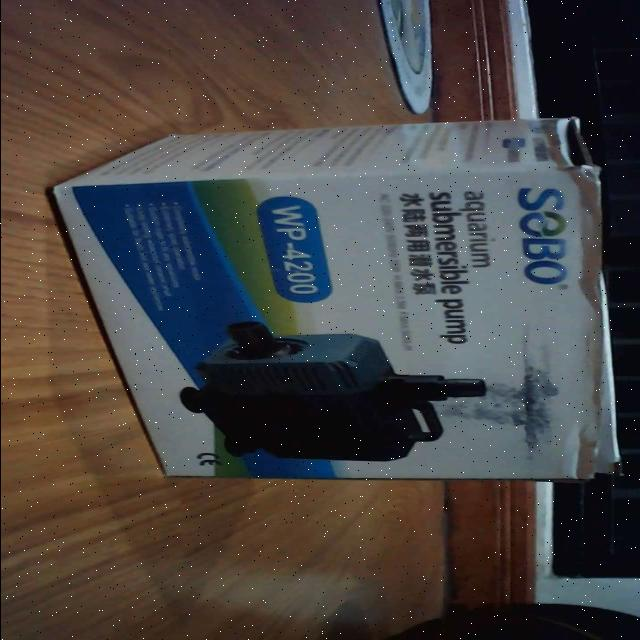SOBO_WP_4200: (44, 108, 632, 490)
